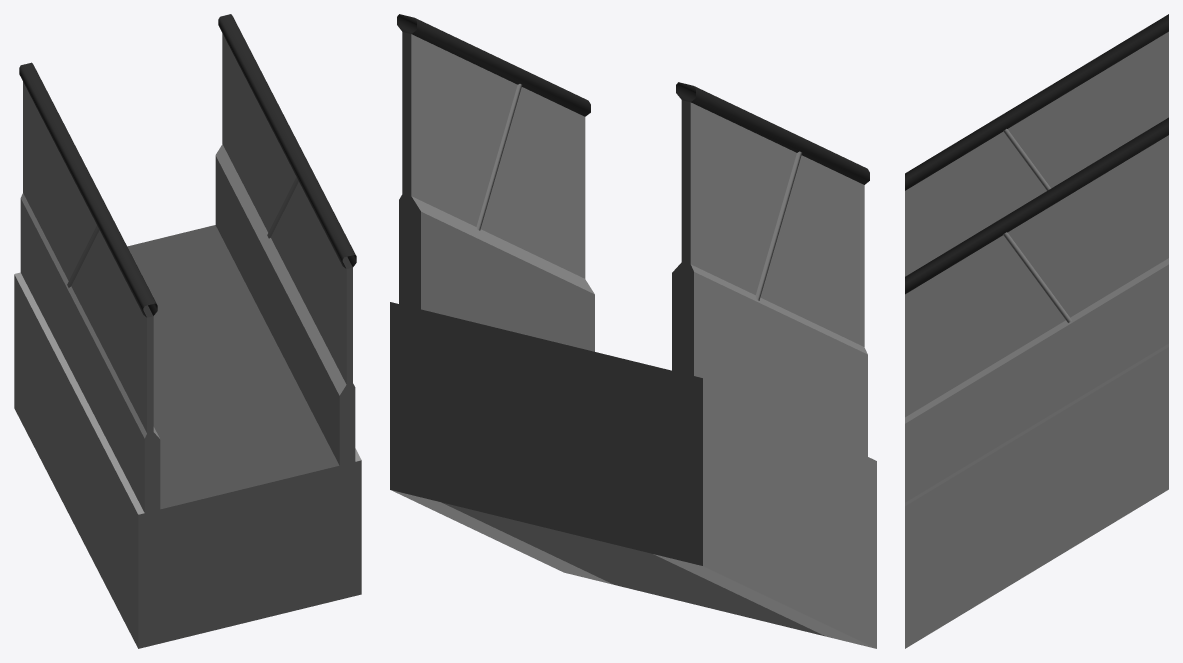
The model's file is SW_ENV_Escalator_4Step_Base.fbx.
3 views of the same model, side by side, from view 1: azimuth 30°, elevation 25°; view 2: azimuth 150°, elevation 25°; view 3: azimuth 270°, elevation 25° (orthographic). The views are drawn at different scales.
Parts seen in each view (by area): view 1: SW_ENV_Escalator_4Step_Base; view 2: SW_ENV_Escalator_4Step_Base; view 3: SW_ENV_Escalator_4Step_Base.
Boxes of the visible parts, x1,y1,x2,y2 form: SW_ENV_Escalator_4Step_Base: [14, 14, 361, 648]; SW_ENV_Escalator_4Step_Base: [390, 14, 876, 648]; SW_ENV_Escalator_4Step_Base: [905, 14, 1168, 648].
Bounding box in the file's own units: 1.25 × 2.62 × 1.2.
